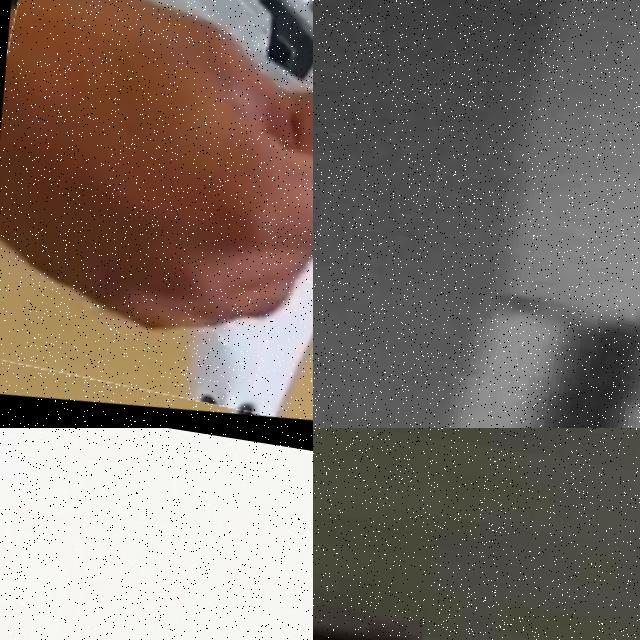drone: (0, 0, 313, 428)
